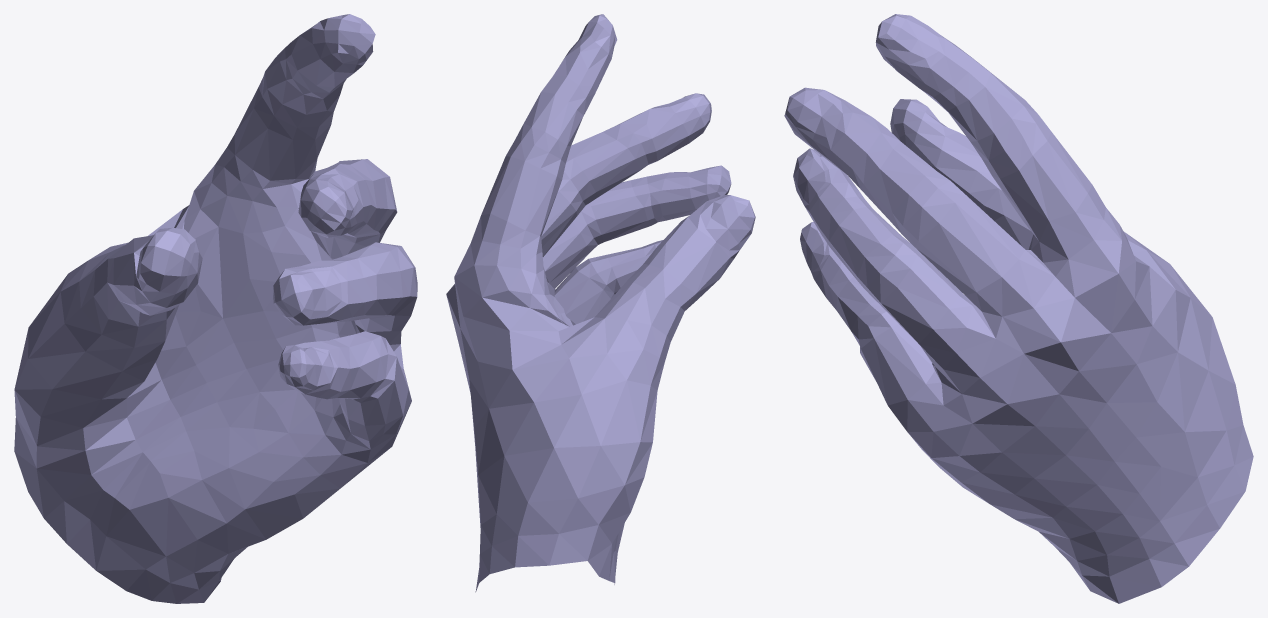
File: hand_0143.glb
The picture shows the model from 3 angles, left to right: view 1: azimuth 30°, elevation 25°; view 2: azimuth 150°, elevation 25°; view 3: azimuth 270°, elevation 25°; orthographic projection. The views are drawn at different scales.
Parts seen in each view (by area): view 1: world; view 2: world; view 3: world.
Boxes of the visible parts, x1,y1,x2,y2 form: world: [14, 14, 417, 603]; world: [446, 14, 755, 592]; world: [784, 14, 1253, 603].
Size of the model in its own units: 0.0824 by 0.1687 by 0.1212.
